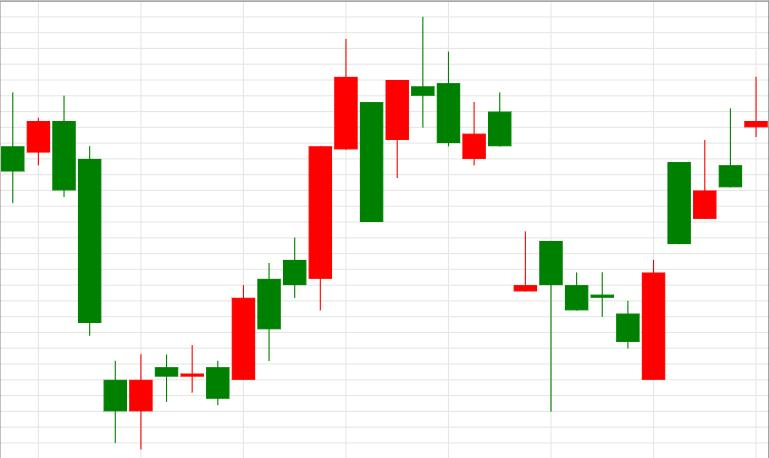bullish_engulfing_rise: (488, 92, 665, 412)
